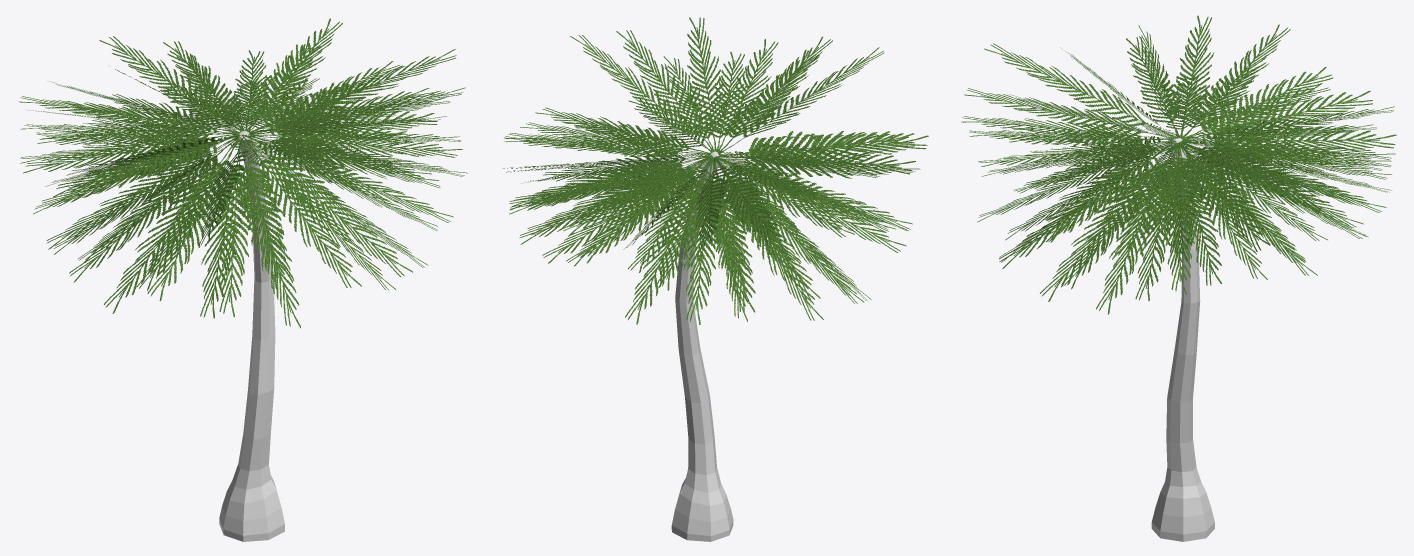
File: PalmTree.fbx
The picture shows the model from 3 angles, left to right: view 1: azimuth 30°, elevation 25°; view 2: azimuth 150°, elevation 25°; view 3: azimuth 270°, elevation 25°; orthographic projection. The views are drawn at different scales.
Parts seen in each view (by area): view 1: Plane.001, Cube.001, Cube; view 2: Plane.001, Cube, Cube.001; view 3: Plane.001, Cube, Cube.001.
Part boxes in pixels (x1=…): Plane.001: x1=19, y1=18, x2=467, y2=328; Cube.001: x1=219, y1=130, x2=284, y2=541; Cube: x1=219, y1=133, x2=284, y2=541; Plane.001: x1=503, y1=17, x2=928, y2=324; Cube: x1=671, y1=151, x2=733, y2=541; Cube.001: x1=672, y1=152, x2=733, y2=541; Plane.001: x1=961, y1=15, x2=1396, y2=314; Cube: x1=1151, y1=138, x2=1214, y2=541; Cube.001: x1=1151, y1=138, x2=1214, y2=537.
Bounding box in the file's own units: 1217 × 1356 × 1213.
